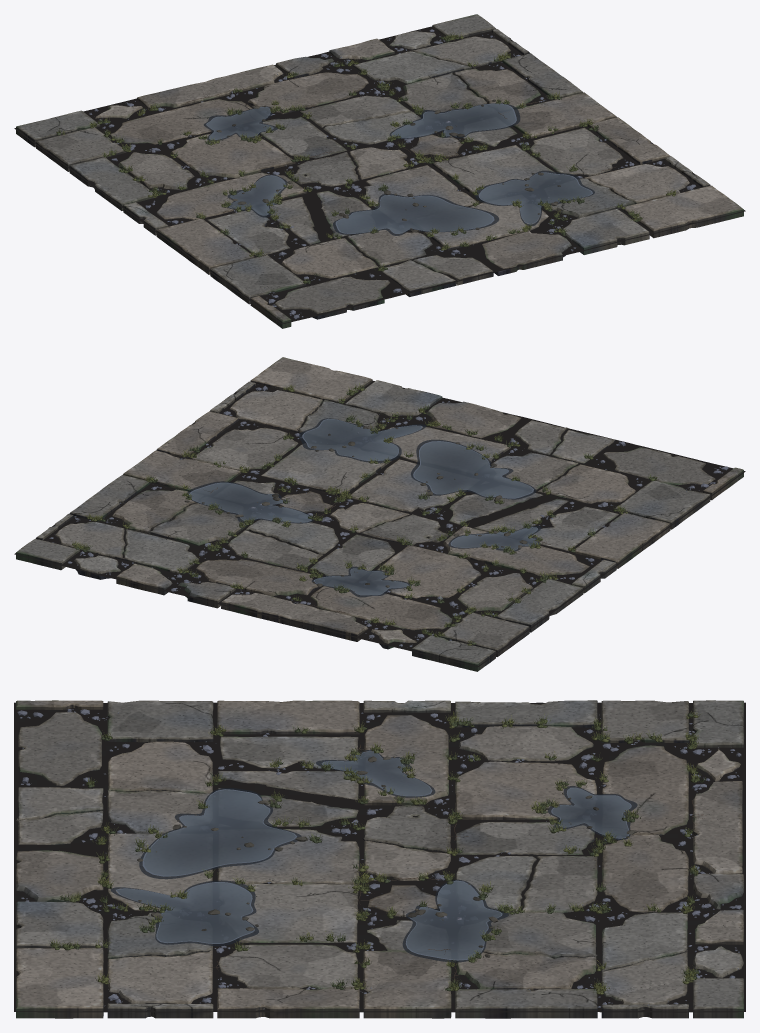
The model's file is SM_Cripta_Piso.glb.
3 views of the same model, one above another, from view 1: azimuth 30°, elevation 25°; view 2: azimuth 150°, elevation 25°; view 3: azimuth 270°, elevation 25° (orthographic). The views are drawn at different scales.
Parts seen in each view (by area): view 1: Lajotas_A, Lajotas_C, Lajotas_B, Junta, Lajotas_D, Musgo_tufos, Poca_0, Poca_3, Poca_1, Desgaste_Cascalho, Poca_2, Poca_4 (+2 smaller); view 2: Lajotas_C, Lajotas_A, Lajotas_B, Junta, Lajotas_D, Musgo_tufos, Poca_0, Poca_3, Poca_1, Desgaste_Cascalho, Poca_2, Poca_4 (+2 smaller); view 3: Lajotas_A, Lajotas_C, Lajotas_B, Junta, Lajotas_D, Musgo_tufos, Poca_0, Poca_3, Poca_1, Desgaste_Cascalho, Poca_2, Poca_4 (+5 smaller).
Part boxes in pixels (left/top/right/bottom): Lajotas_A: left=16, top=14, right=616, bottom=278; Lajotas_C: left=36, top=29, right=689, bottom=319; Lajotas_B: left=110, top=31, right=743, bottom=328; Junta: left=14, top=26, right=745, bottom=324; Lajotas_D: left=95, top=56, right=670, bottom=274; Musgo_tufos: left=56, top=32, right=676, bottom=283; Poca_0: left=335, top=195, right=494, bottom=233; Poca_3: left=478, top=172, right=592, bottom=224; Poca_1: left=391, top=103, right=516, bottom=138; Desgaste_Cascalho: left=89, top=29, right=695, bottom=319; Poca_2: left=206, top=107, right=273, bottom=139; Poca_4: left=229, top=175, right=285, bottom=215; Lajotas_C: left=36, top=390, right=715, bottom=656; Lajotas_A: left=16, top=401, right=635, bottom=671; Lajotas_B: left=74, top=357, right=743, bottom=630; Junta: left=14, top=381, right=745, bottom=667; Lajotas_D: left=156, top=411, right=670, bottom=649; Musgo_tufos: left=72, top=383, right=657, bottom=645; Poca_0: left=413, top=441, right=533, bottom=498; Poca_3: left=302, top=418, right=422, bottom=460; Poca_1: left=189, top=482, right=311, bottom=522; Desgaste_Cascalho: left=49, top=385, right=728, bottom=647; Poca_2: left=313, top=568, right=408, bottom=595; Poca_4: left=450, top=527, right=538, bottom=550; Lajotas_A: left=16, top=700, right=744, bottom=1018; Lajotas_C: left=18, top=700, right=742, bottom=1018; Lajotas_B: left=16, top=700, right=743, bottom=1018; Junta: left=14, top=702, right=745, bottom=1012; Lajotas_D: left=217, top=700, right=743, bottom=1018; Musgo_tufos: left=49, top=709, right=706, bottom=994; Poca_0: left=142, top=789, right=296, bottom=876; Poca_3: left=116, top=882, right=254, bottom=943; Poca_1: left=405, top=880, right=502, bottom=960; Desgaste_Cascalho: left=17, top=702, right=741, bottom=1009; Poca_2: left=551, top=787, right=631, bottom=838; Poca_4: left=321, top=750, right=432, bottom=796.
Size of the model in its own units: 8 by 0.2315 by 8.
9 materials, 1 textured.
